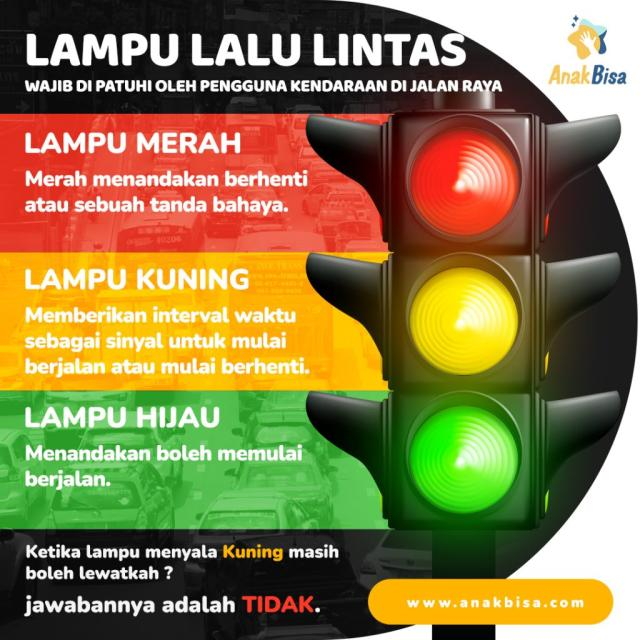Hijau: (408, 406, 520, 514)
Kuning: (406, 265, 520, 376)
Merah: (408, 124, 522, 236)
